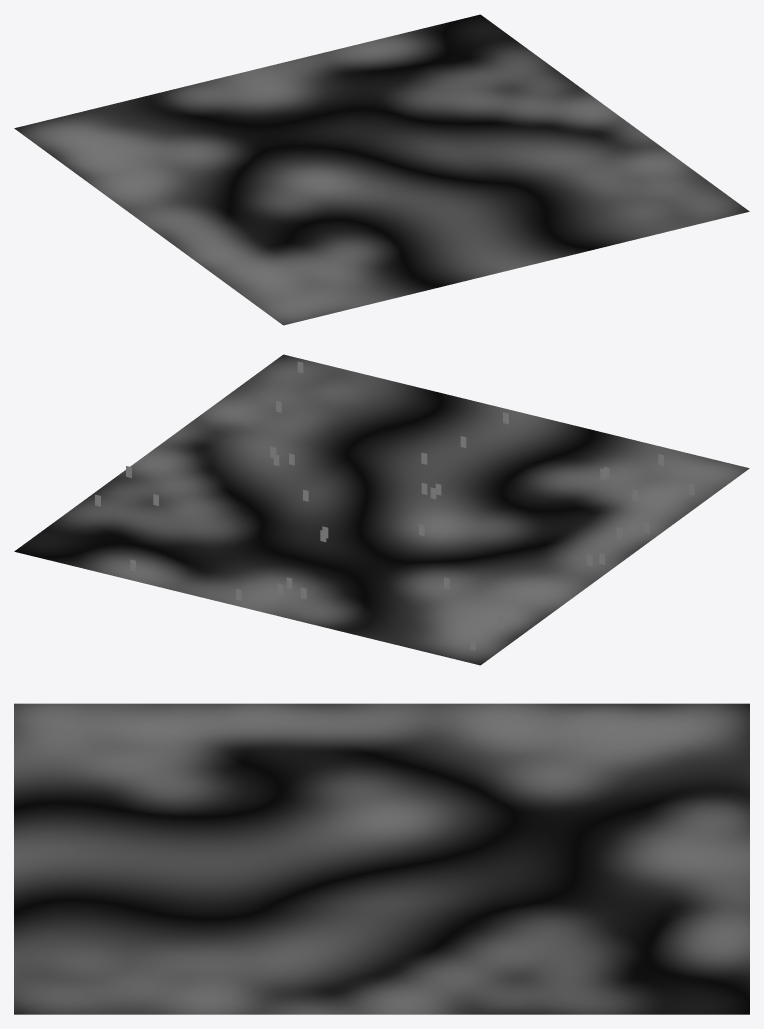
File: map.glb
The picture shows the model from 3 angles, top to bottom: view 1: azimuth 30°, elevation 25°; view 2: azimuth 150°, elevation 25°; view 3: azimuth 270°, elevation 25°; orthographic projection. The views are drawn at different scales.
Parts seen in each view (by area): view 1: cemeteryTexture; view 2: cemeteryTexture; view 3: cemeteryTexture.
Boxes of the visible parts, box(x1,y1,x2,y2) form: cemeteryTexture: box(14, 14, 749, 325); cemeteryTexture: box(14, 354, 749, 665); cemeteryTexture: box(14, 703, 749, 1014).
Size of the model in its own units: 50 by 1.17 by 50.
Materials: 1 (1 with a texture image).
